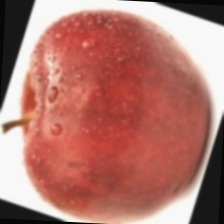apple: (33, 20, 185, 177)
